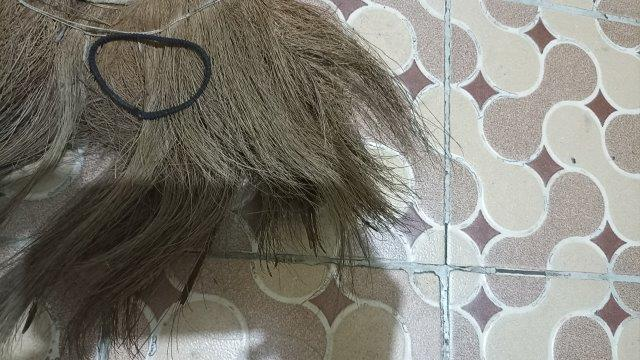karet: (88, 32, 212, 120)
